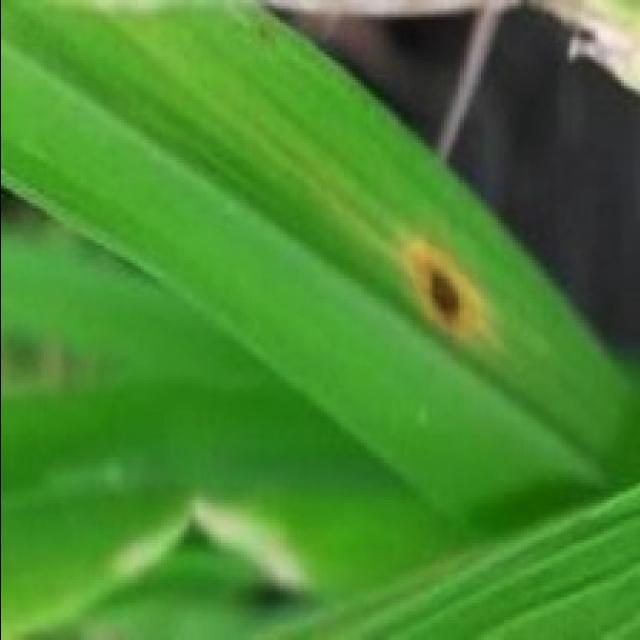Unhealthy: (102, 493, 314, 588), (391, 237, 504, 352)
